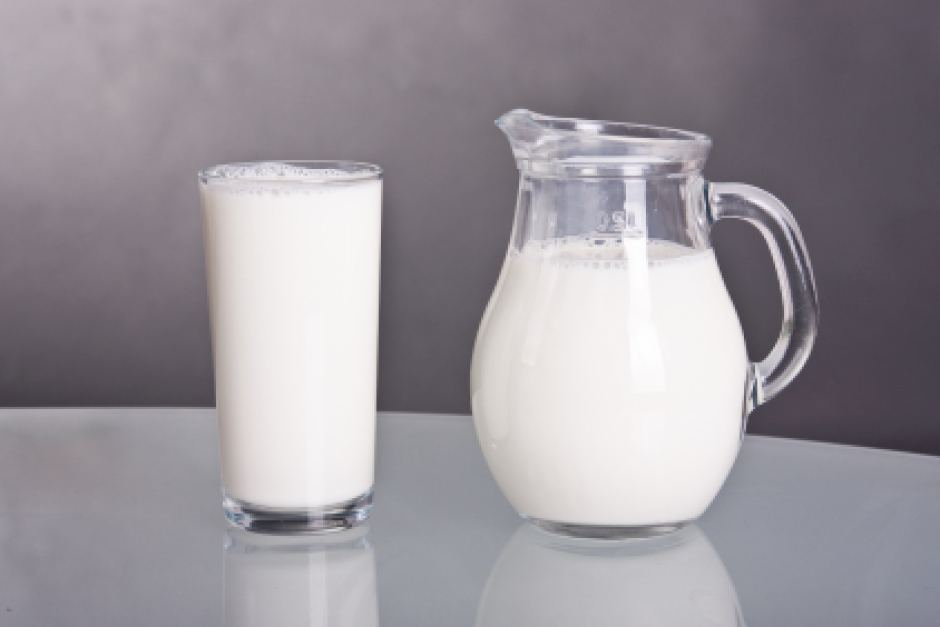glass of milk: (473, 101, 827, 566), (196, 151, 389, 551)
